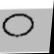no answer: (0, 12, 37, 38)
